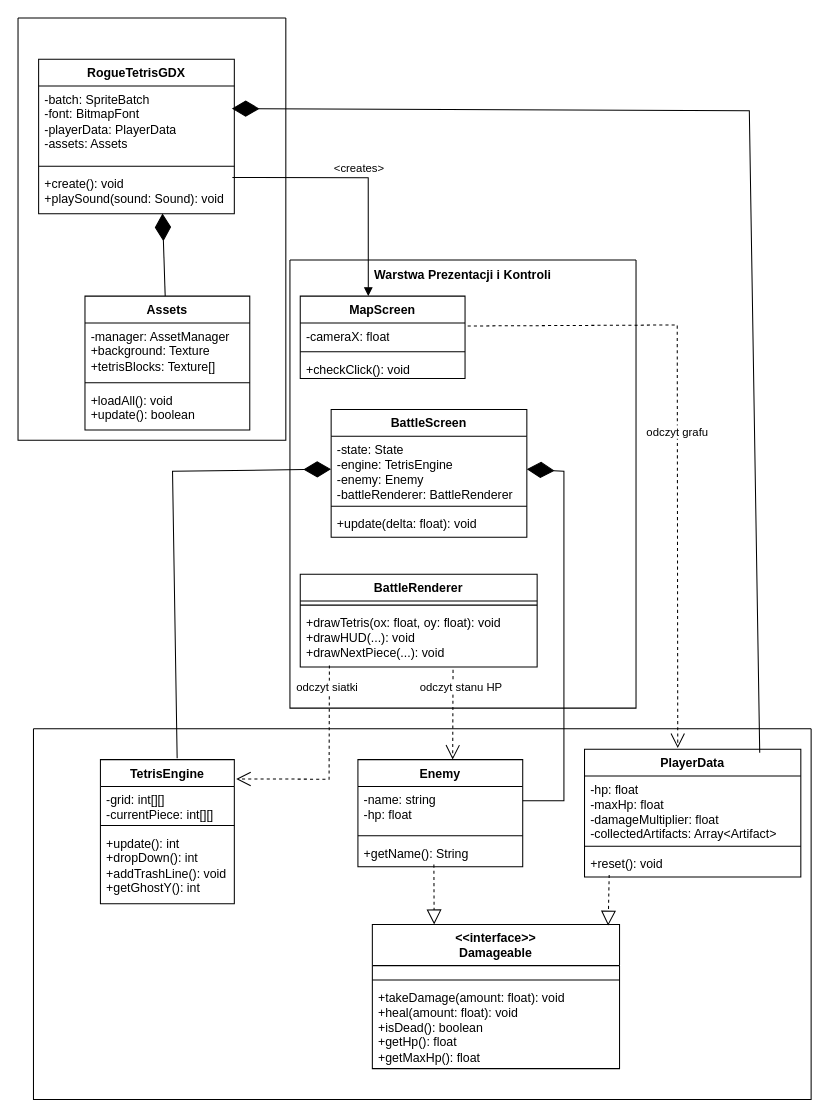
The diagram is 829 pixels wide and 1118 high, and some of its shapes have lost their labels. The centre of each missing label's shape, as x and y in pixels:
Warstwa Logiki i Stanu: the point at 421,914
Warstwa Zarządzania i Zasobów: the point at 151,228
